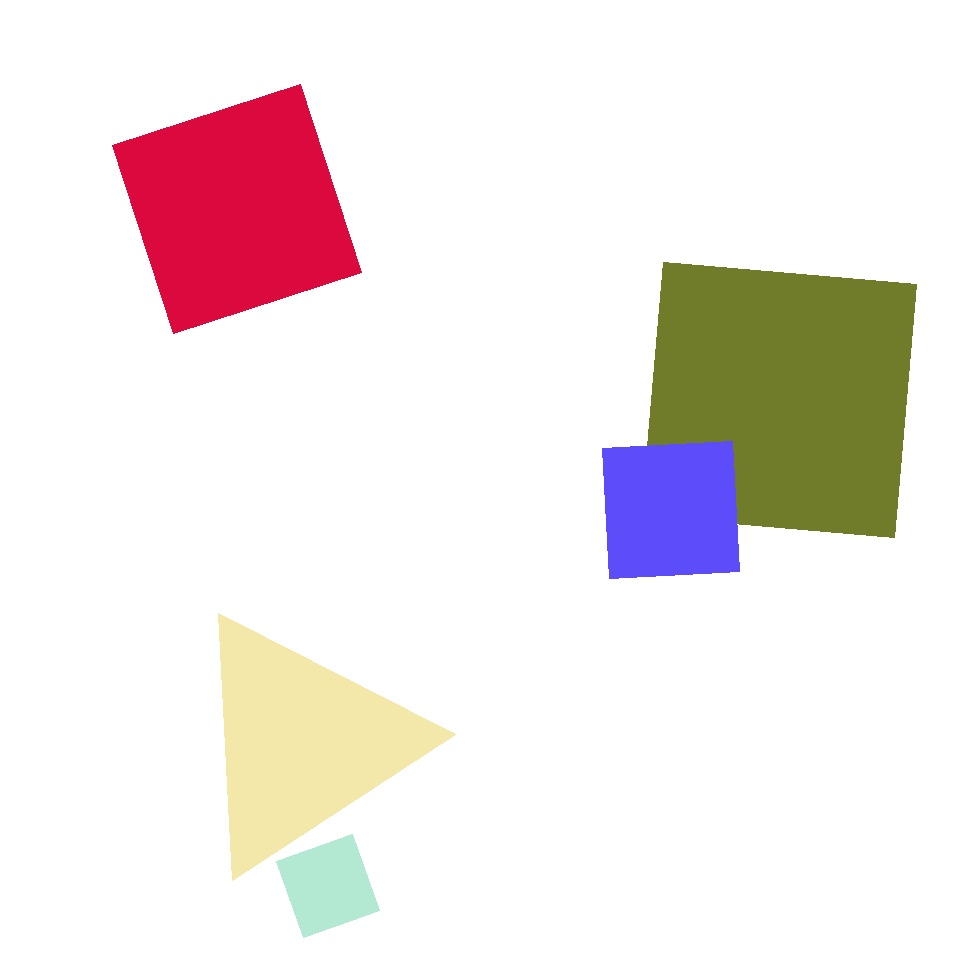circle: (184, 610, 420, 876), (565, 566, 743, 754), (429, 174, 537, 280)
square: (642, 262, 916, 538), (112, 84, 362, 334), (796, 600, 944, 750), (603, 442, 740, 578), (276, 835, 380, 938), (596, 342, 690, 434)
triangle: (511, 604, 610, 702)
